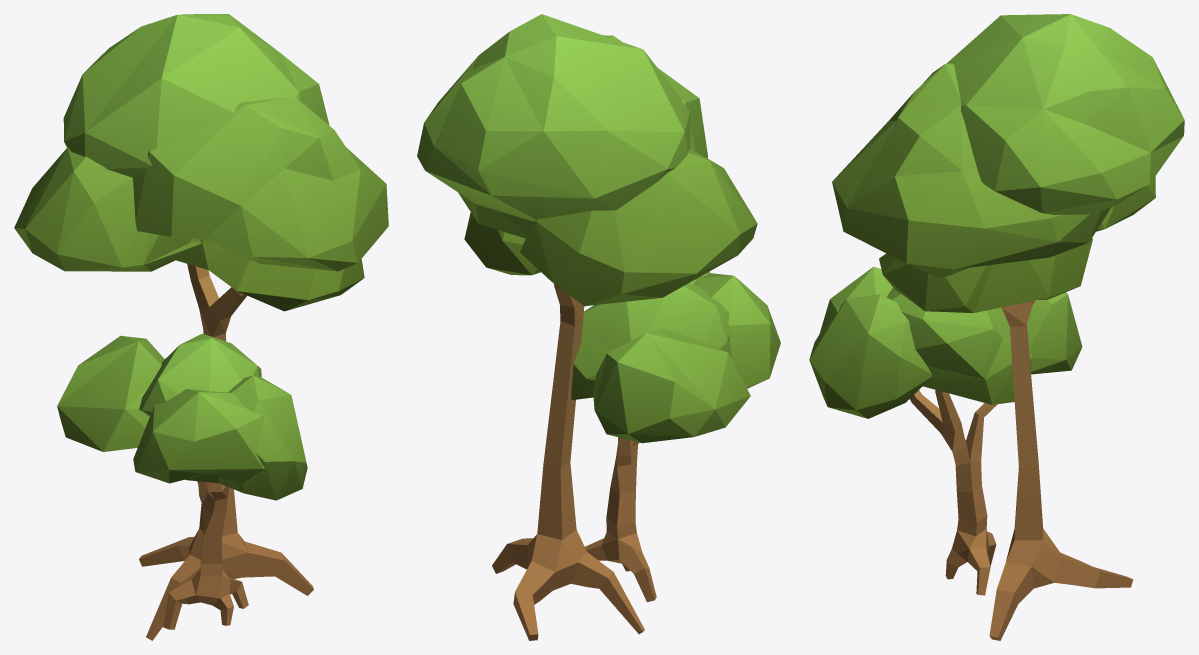
Rendered from LP_Tree_08.fbx.
3 renders of one model, left to right at view 1: azimuth 30°, elevation 25°; view 2: azimuth 150°, elevation 25°; view 3: azimuth 270°, elevation 25°, orthographic. The views are drawn at different scales.
Visible parts, largest first — view 1: LP_Tree_08_LOD0; view 2: LP_Tree_08_LOD0; view 3: LP_Tree_08_LOD0.
Part boxes in pixels (left/top/right/bottom): LP_Tree_08_LOD0: left=14, top=14, right=388, bottom=640; LP_Tree_08_LOD0: left=417, top=14, right=780, bottom=640; LP_Tree_08_LOD0: left=809, top=14, right=1184, bottom=640.
Size of what is drawn, in the model's own units: 1.98 by 3.67 by 2.09.
